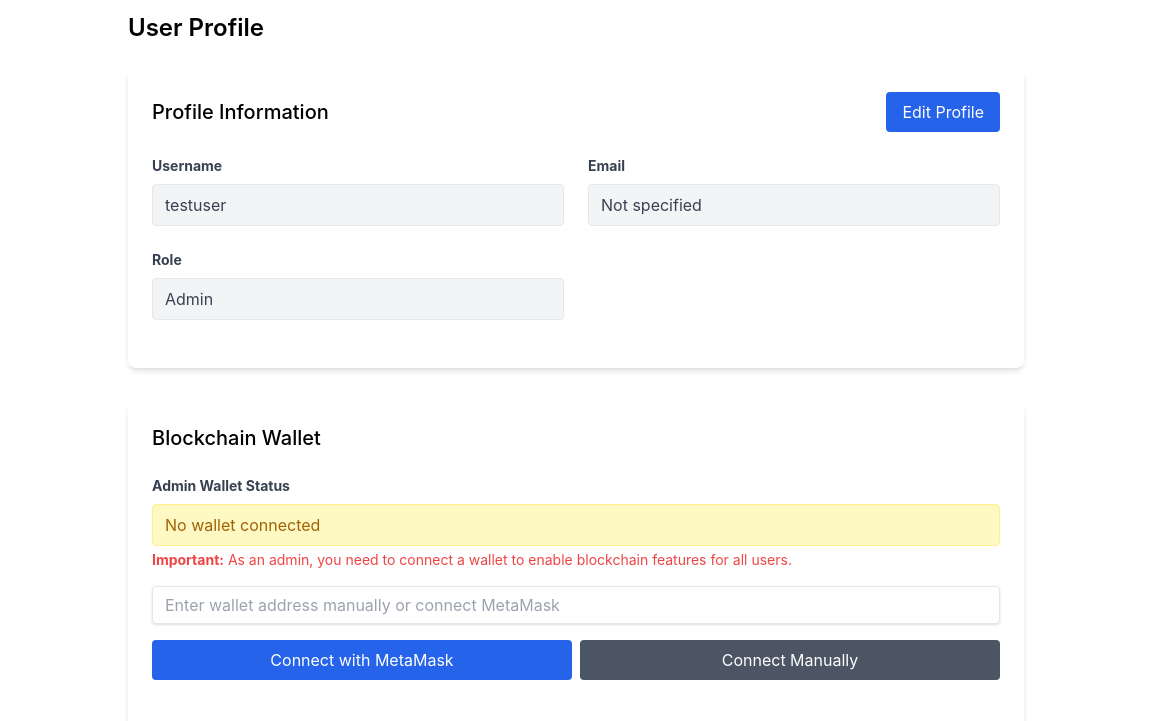
Profile Component › manual wallet connect works for admin
In the field with placeholder "Enter wallet address manually or connect MetaMask": (576, 605) [152, 586, 1000, 624], type "0xManualWallet"
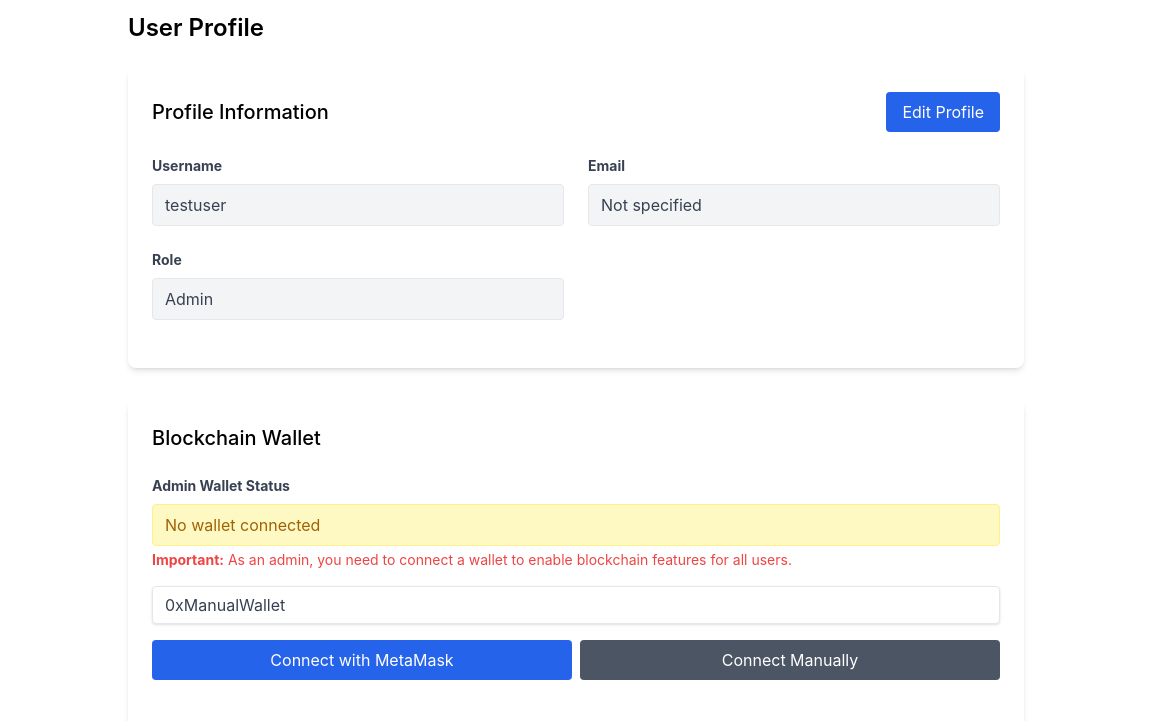
Click the button "Connect Manually": (790, 660) [580, 640, 1000, 680]
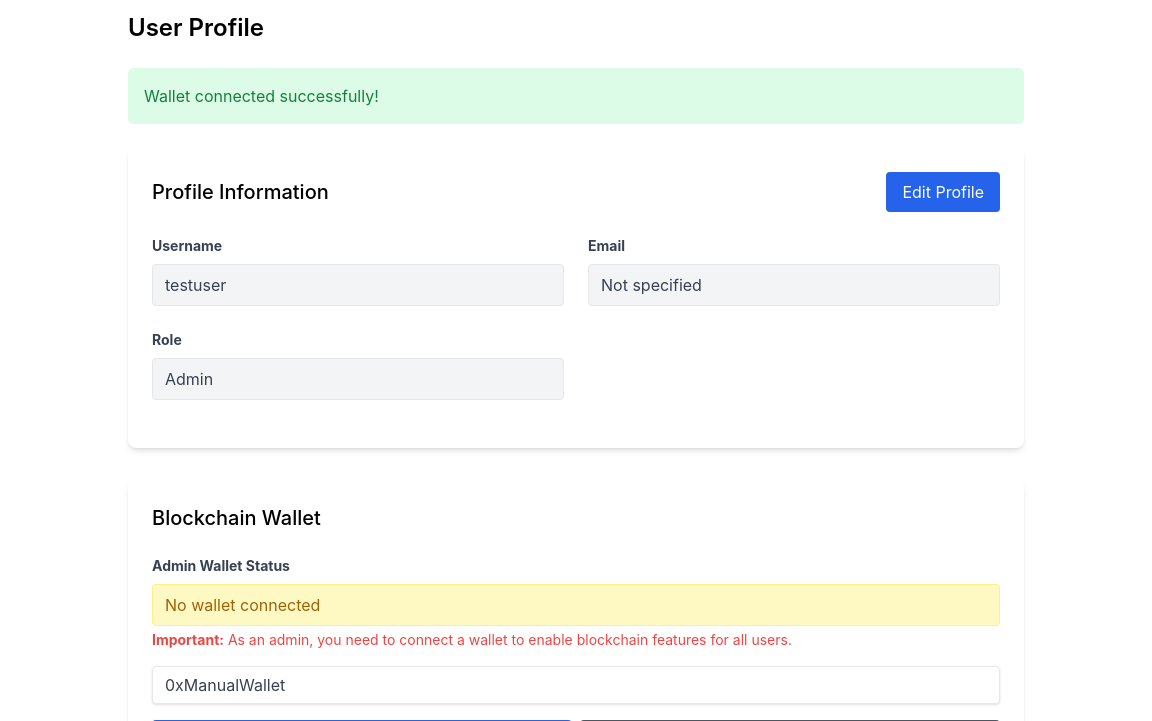
Expected: the text "Wallet connected successfully!" is shown, [128, 68, 1024, 124]
